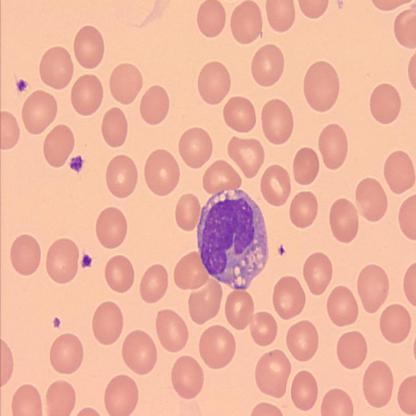Monocyte: (195, 186, 270, 292)
